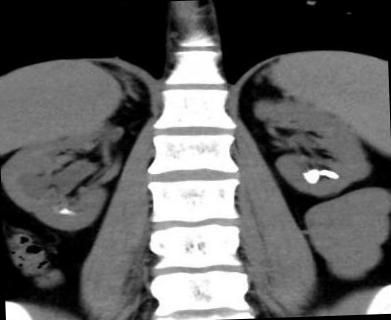Tas_Var: (299, 168, 320, 185), (319, 167, 340, 181), (58, 207, 70, 215)
